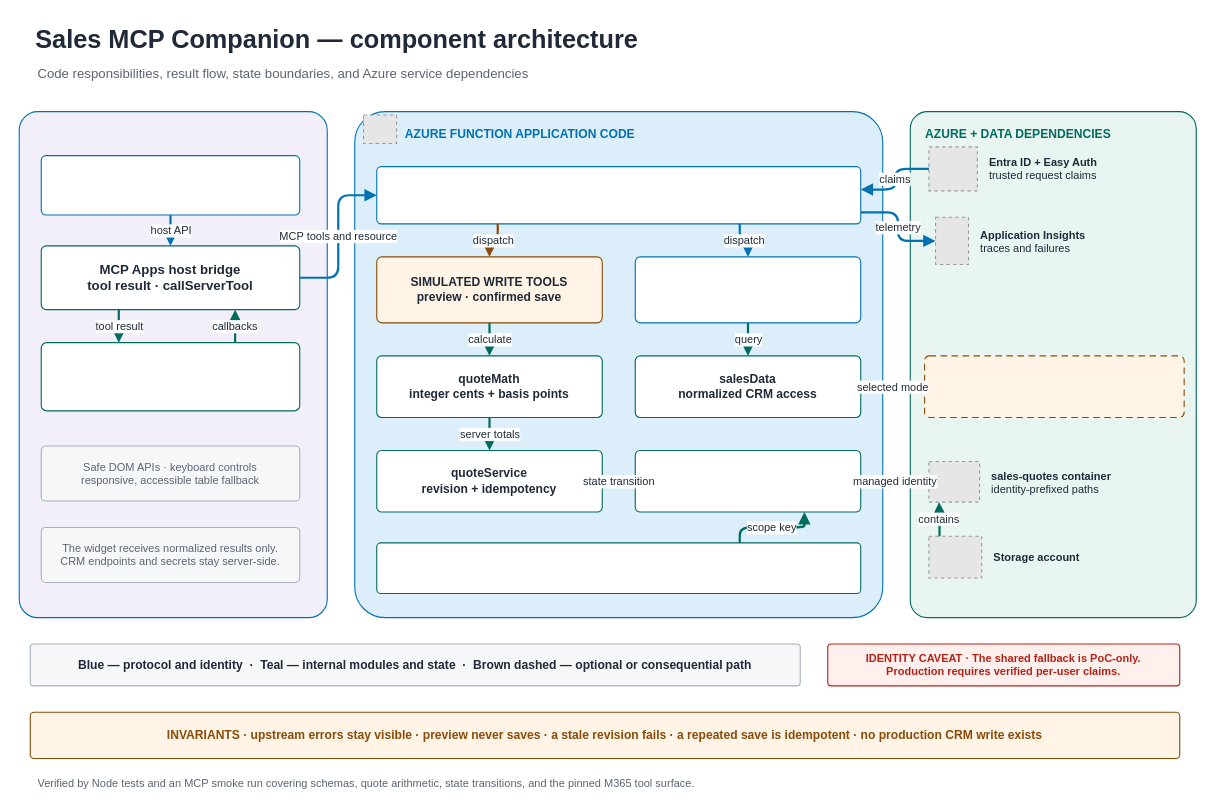
Some shapes in this 1216 by 812 pixel diagram are drawn without their labels. Grey dashed boxes stand in for pictures. The shapes that lost their labels are listed below. From the top down, each one's box as (x1, y1, x2, y2) in pixels, then its label:
(40, 155, 300, 215): M365 Copilot / Cowork MCP host
(376, 166, 861, 224): salesMcpApp.ts · registration · schemas · validated result envelope
(634, 256, 861, 323): READ TOOLS dashboard · opportunity · quote
(40, 342, 300, 411): sales-app.ts bundle filters · charts · quote UX
(18, 111, 327, 618): HOST + UI
(923, 355, 1184, 417): CRM data providers sales.seed.json · upstreamMcpClient
(634, 449, 861, 512): quoteStore ETag conditional writes
(376, 542, 861, 593): identity · derives a hashed per-user scope from trusted Easy Auth claims
